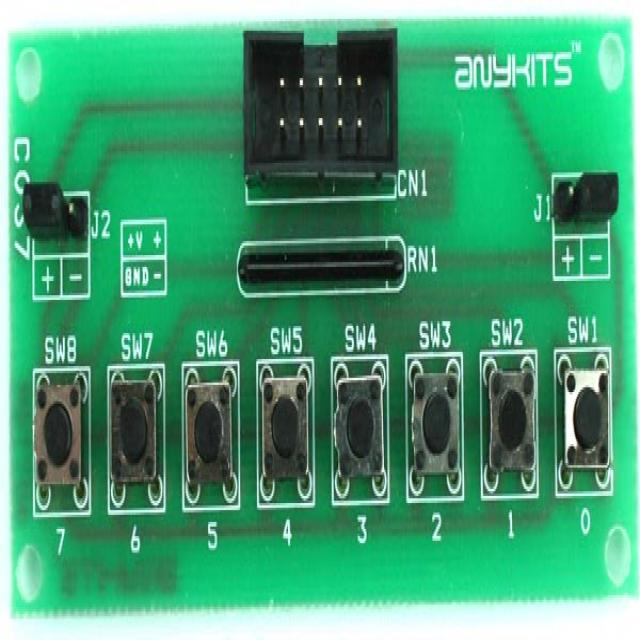2235: (330, 362, 387, 510), (260, 362, 310, 498), (180, 369, 234, 494), (488, 363, 537, 493), (561, 362, 613, 484), (32, 366, 79, 499), (111, 362, 162, 482), (408, 358, 456, 485)
connector -5v-: (243, 27, 397, 180), (546, 168, 621, 241), (18, 182, 86, 259)
